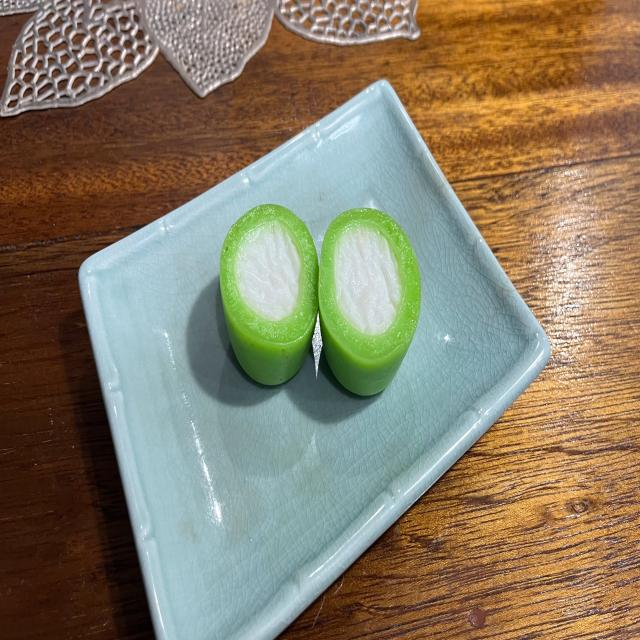nona-manis: (319, 209, 421, 396), (220, 204, 319, 384)
